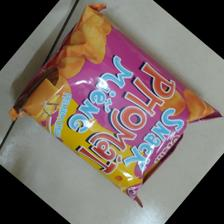Oishi_phomat: (8, 2, 221, 210)
